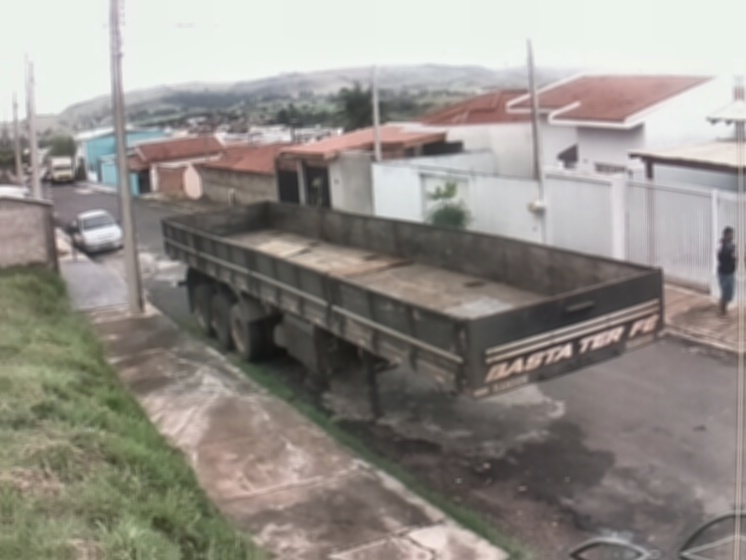person: (714, 225, 746, 325)
